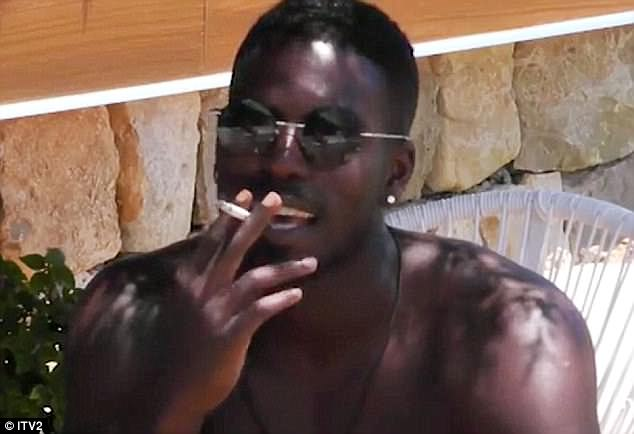cigarette: (215, 199, 252, 221)
